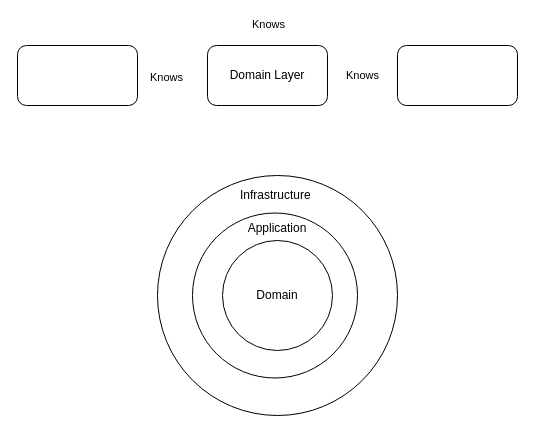
This 535x433 diagram has some shape labels left out. Each missing label, with the centre of its shape:
"Application Layer" belongs at point 457,75.
"Infrastructure Layer" belongs at point 77,75.
